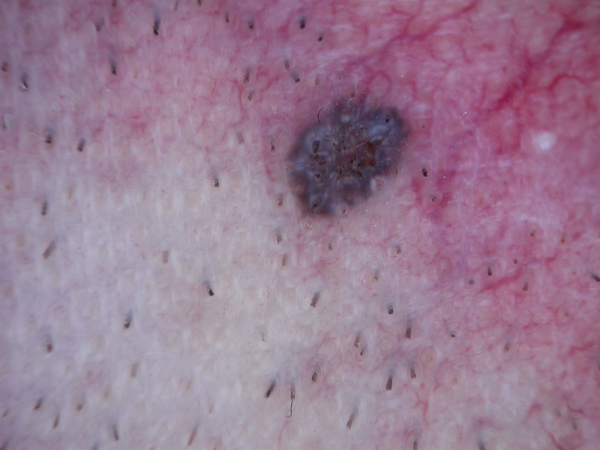Detected Lesion: (272, 79, 424, 228)
